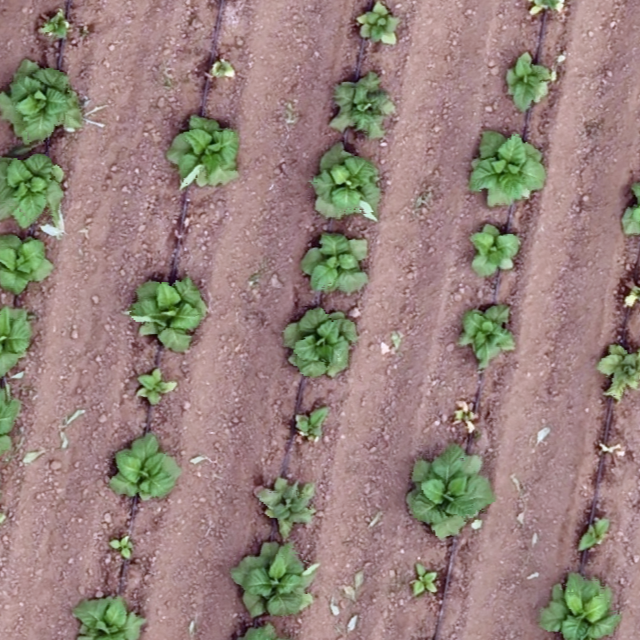disease: (449, 399, 485, 436), (615, 275, 639, 312)
healthy: (405, 443, 495, 539), (230, 538, 317, 623), (1, 56, 83, 145), (467, 122, 548, 210), (127, 269, 208, 354), (280, 300, 360, 382), (308, 141, 385, 226), (166, 110, 241, 191), (103, 430, 182, 505), (1, 144, 66, 230), (297, 225, 372, 299), (540, 571, 618, 639), (325, 67, 394, 142), (454, 296, 517, 365), (463, 218, 524, 281), (1, 225, 54, 297), (255, 475, 316, 536), (72, 590, 146, 640), (502, 51, 553, 112), (1, 299, 36, 381), (596, 338, 639, 400), (351, 1, 401, 49), (130, 363, 177, 408), (289, 401, 330, 446), (574, 510, 613, 557), (1, 381, 21, 461), (406, 560, 444, 601), (36, 3, 74, 44), (620, 175, 640, 242), (206, 53, 245, 83), (223, 623, 289, 640), (107, 529, 137, 564), (522, 0, 571, 19)
